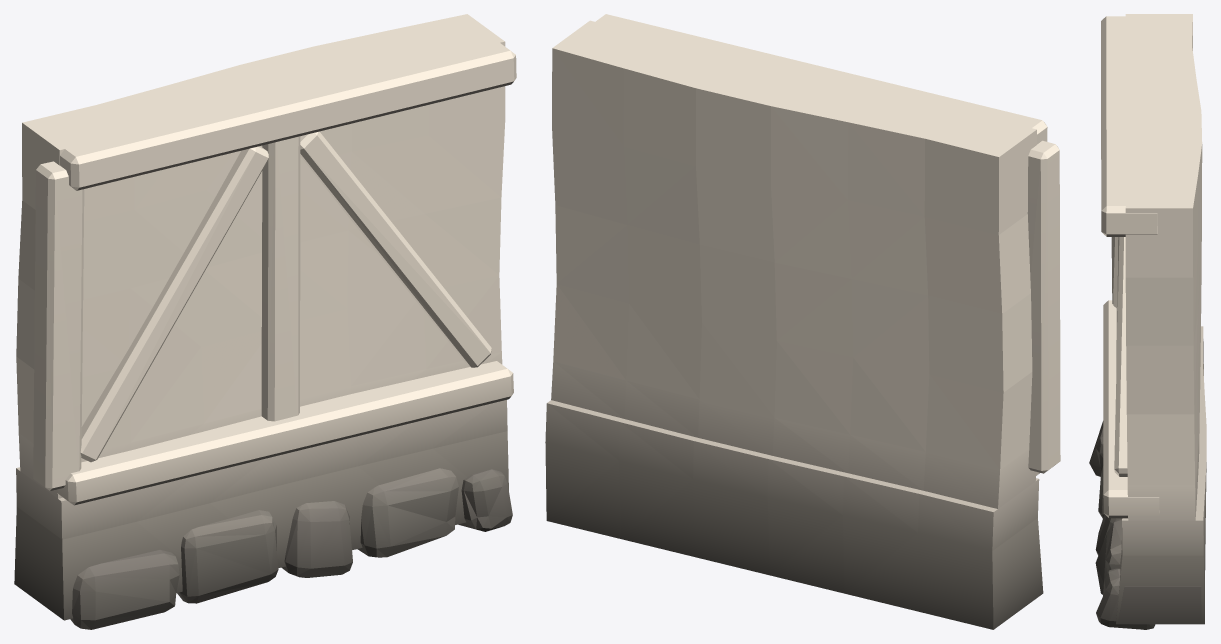
The model's file is SM_VK_Wall_Plaster.fbx.
The picture shows the model from 3 angles, left to right: view 1: azimuth 30°, elevation 25°; view 2: azimuth 150°, elevation 25°; view 3: azimuth 270°, elevation 25°; orthographic projection. The views are drawn at different scales.
Visible parts, largest first — view 1: SM_VK_Wall_Plaster.001; view 2: SM_VK_Wall_Plaster.001; view 3: SM_VK_Wall_Plaster.001.
Boxes of the visible parts, bbox=[...] form: SM_VK_Wall_Plaster.001: bbox=[14, 14, 516, 629]; SM_VK_Wall_Plaster.001: bbox=[545, 14, 1060, 629]; SM_VK_Wall_Plaster.001: bbox=[1089, 14, 1206, 629].
Bounding box in the file's own units: 3.13 × 3.11 × 0.7674.
